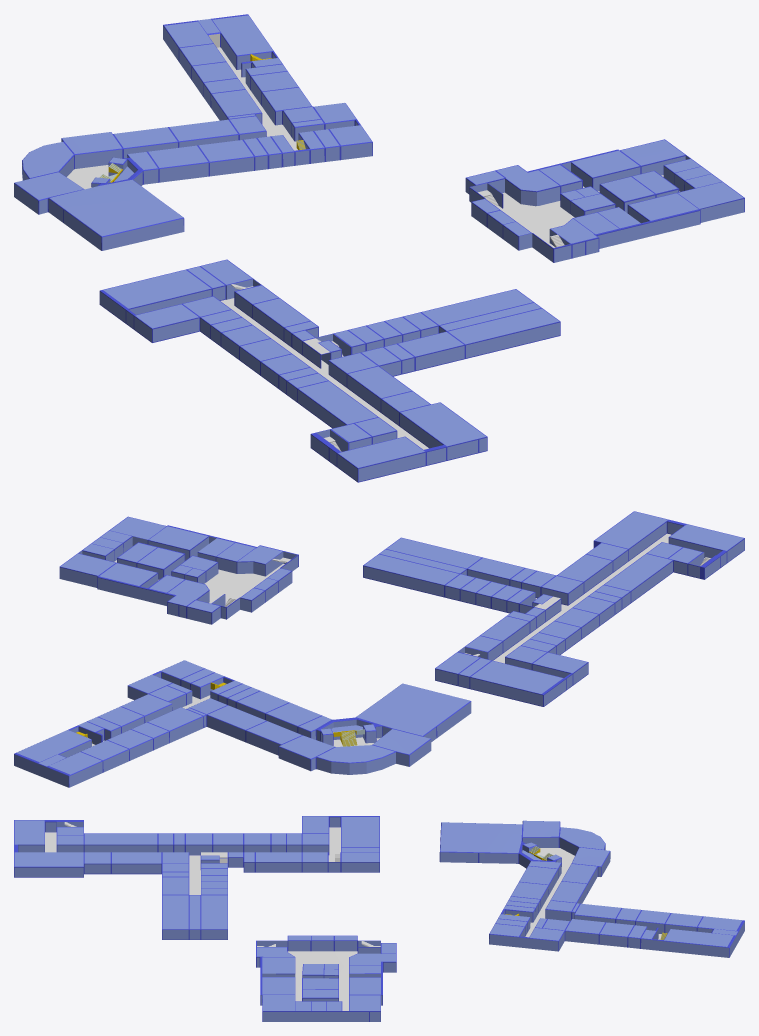
The model's file is dstu_0.glb.
3 views of the same model, one above another, from view 1: azimuth 30°, elevation 25°; view 2: azimuth 150°, elevation 25°; view 3: azimuth 270°, elevation 25° (orthographic). The views are drawn at different scales.
Parts seen in each view (by area): view 1: Plane.011, Plane.009, K1.001; view 2: Plane.011, Plane.009, K1.001; view 3: Plane.011, Plane.009, K1.001.
Part boxes in pixels (x1,y1,x2,y2): Plane.011: (99,259,560,482); Plane.009: (14,14,372,250); K1.001: (465,139,744,262); Plane.011: (363,511,744,706); Plane.009: (14,660,471,787); K1.001: (59,516,298,624); Plane.011: (14,816,379,939); Plane.009: (439,820,744,957); K1.001: (256,935,396,1021).
Bounding box in the file's own units: 124 × 5.71 × 188.
